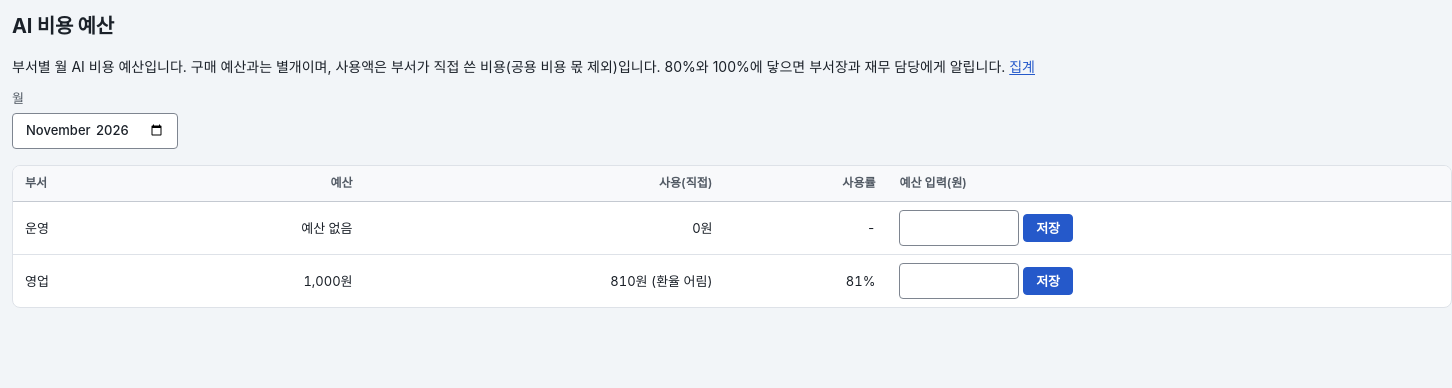
Test: AI 비용 예산 화면 › 부서별 예산·사용률을 보이고 재무는 입력해 저장한다
This screenshot has width=1452, height=388.
Expected: the text "예산 없음" is shown, [150,202,365,254]
Expected: the text "81%" is shown, [725,254,888,307]
Type "5,000" into the field named "운영 예산" at [960, 228], box [900,210,1020,246]
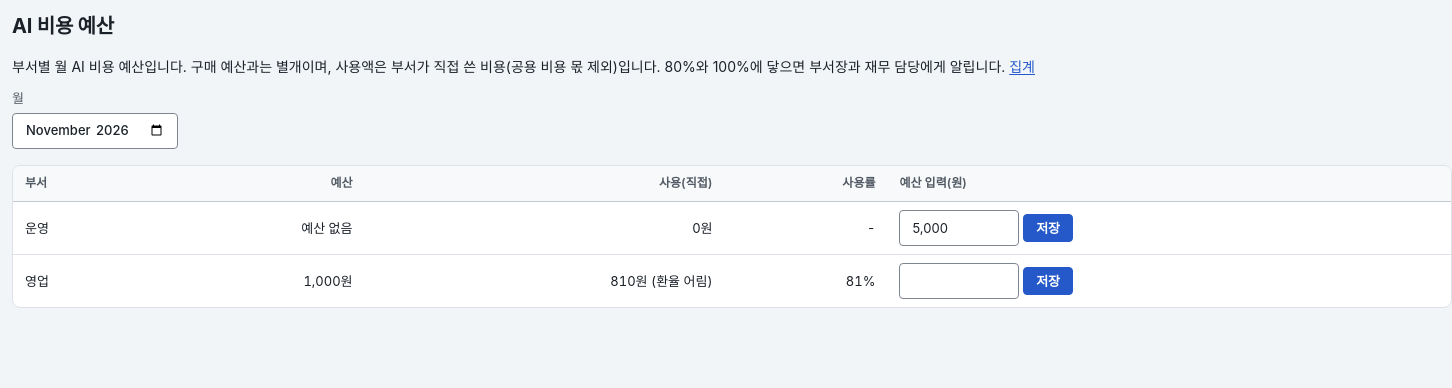
Click the button "저장" in the row of "운영" at [1048, 228], box [1023,214,1073,242]
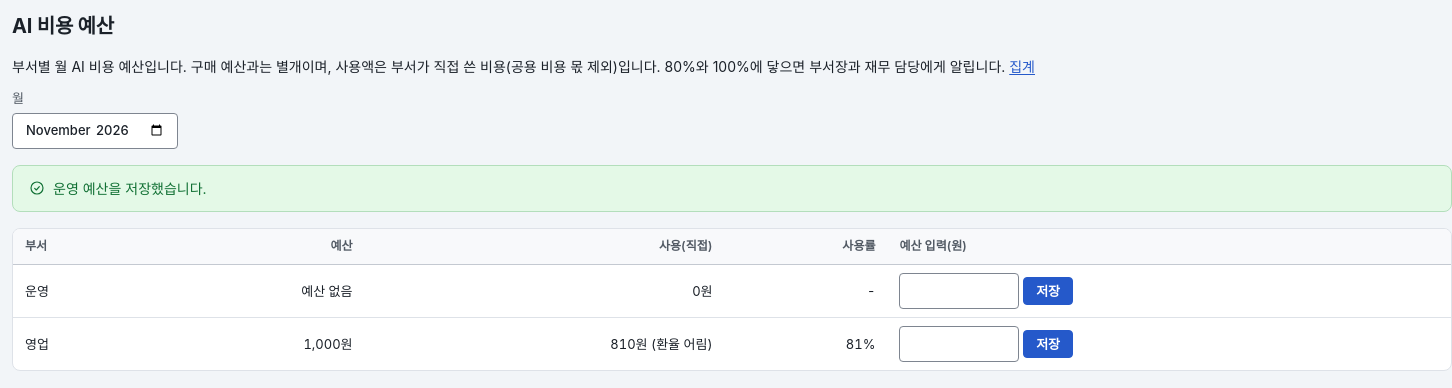
Now the text "운영 예산을 저장했습니다." is shown, box [53,178,207,198]
